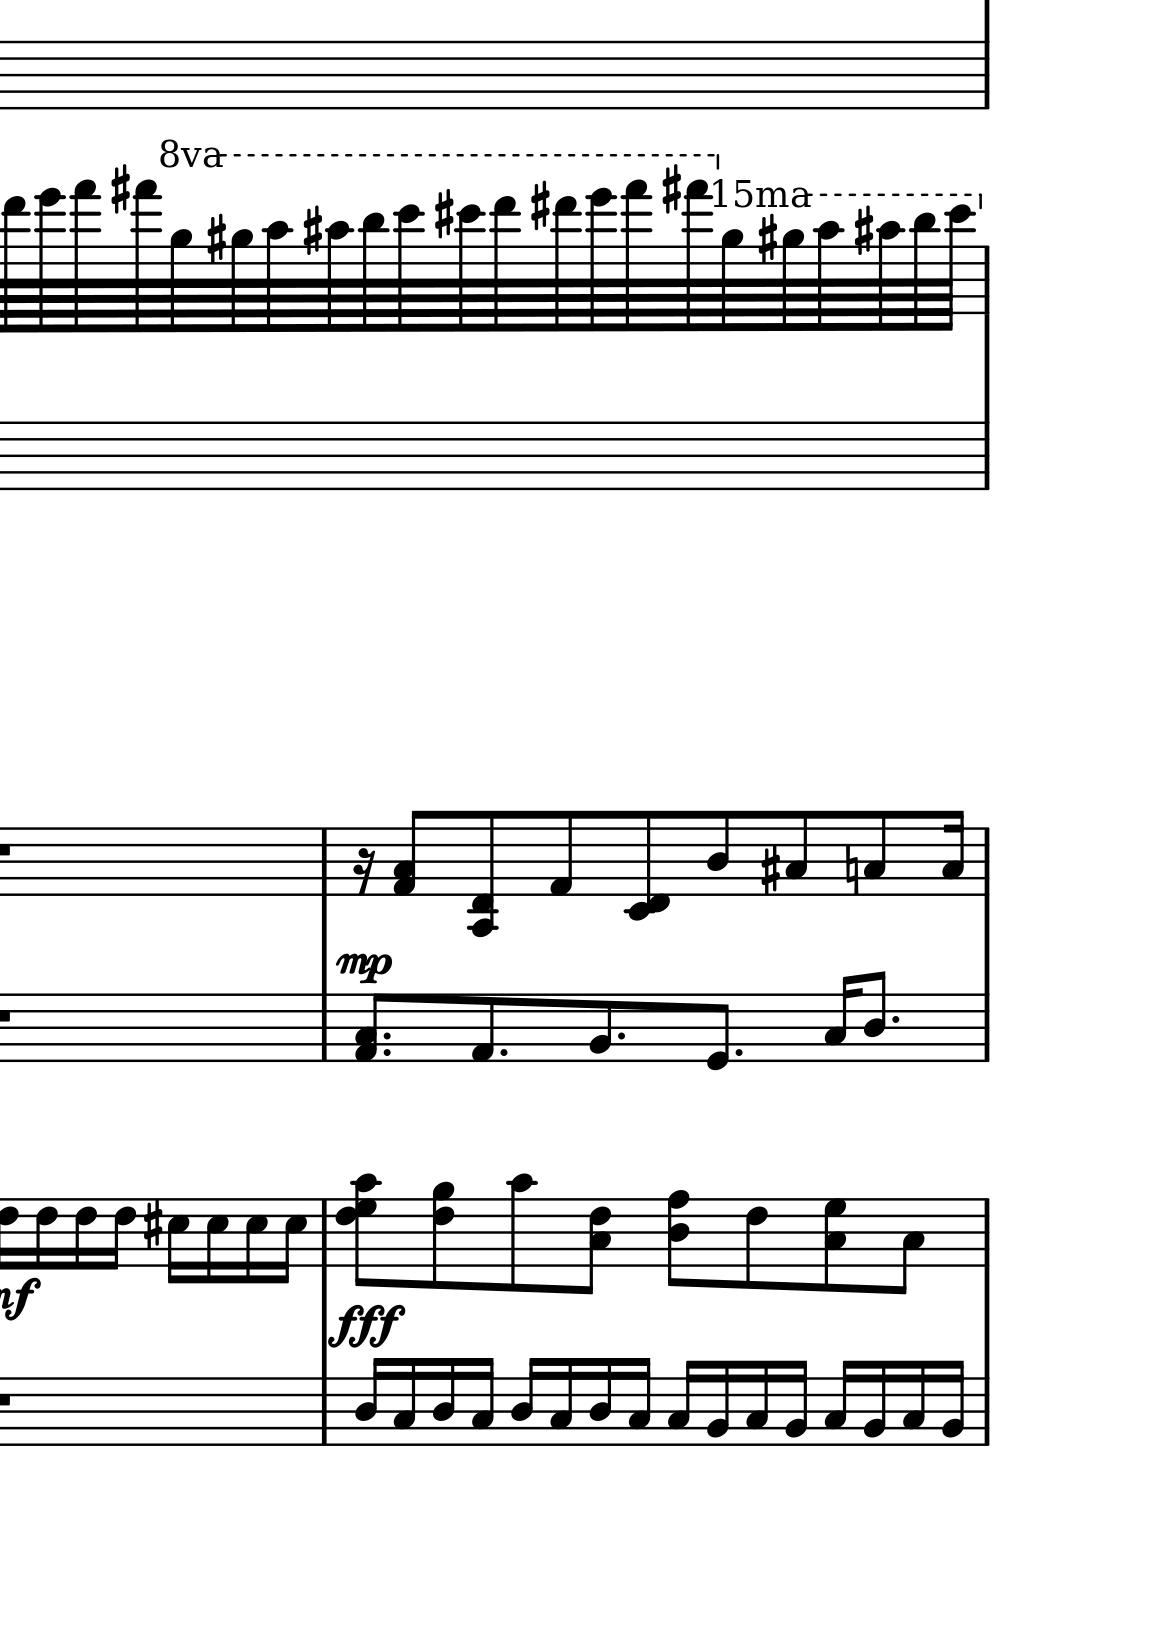16_2: (941, 1360, 966, 1448), (707, 1358, 731, 1449), (785, 1358, 809, 1449), (863, 1358, 886, 1447)
16_3: (823, 972, 862, 1063), (823, 1360, 857, 1448), (667, 1360, 701, 1447), (549, 1355, 574, 1448), (626, 1357, 651, 1449), (940, 809, 966, 896), (469, 1356, 494, 1447), (746, 1360, 770, 1448), (393, 1357, 416, 1449), (901, 1360, 926, 1447)
16_4: (354, 1357, 388, 1447), (511, 1356, 544, 1447), (587, 1356, 613, 1449), (433, 1356, 456, 1449)
16_5: (103, 1198, 136, 1272), (281, 1195, 305, 1286), (206, 1196, 231, 1286), (246, 1196, 268, 1287), (167, 1198, 190, 1284), (34, 1198, 59, 1272), (74, 1198, 96, 1274)
64_10: (817, 219, 842, 333), (266, 221, 290, 333), (327, 218, 350, 331), (878, 219, 901, 333)
64_11: (362, 212, 389, 335), (913, 212, 935, 333)
64_12: (940, 203, 972, 333), (395, 202, 423, 335), (458, 204, 484, 335)
64_13: (491, 194, 519, 333), (554, 194, 580, 334), (2, 194, 27, 334)
64_14: (588, 186, 616, 334), (36, 187, 64, 334)
64_15: (71, 178, 98, 334), (623, 179, 651, 334), (133, 179, 160, 333), (684, 179, 708, 333)
64_9: (170, 228, 194, 335), (721, 227, 744, 333), (782, 228, 805, 334), (229, 228, 252, 335)
8_-2_-1: (623, 809, 670, 920)
8_-4_-1: (469, 810, 500, 937)
8_1: (549, 810, 574, 898), (468, 993, 496, 1063), (707, 993, 731, 1072)
8_10: (509, 1173, 536, 1295)
8_1_3: (393, 810, 426, 898), (353, 991, 383, 1063)
8_2: (588, 992, 612, 1064)
8_3: (890, 1198, 928, 1297), (785, 809, 810, 898), (863, 809, 886, 898)
8_3_6: (580, 1198, 613, 1299)
8_3_7: (824, 1198, 848, 1295)
8_4: (862, 970, 886, 1065), (707, 810, 731, 897)
8_4_8: (666, 1190, 689, 1289)
8_6: (744, 1196, 769, 1294)
8_6_9: (431, 1181, 456, 1291)
8_th: (337, 1171, 386, 1289)
Natural: (845, 846, 859, 901)
Rests16: (352, 847, 377, 896)
Sharp: (110, 160, 131, 218), (761, 844, 780, 898), (757, 212, 778, 263), (854, 206, 874, 257), (302, 206, 322, 255), (530, 181, 550, 231), (145, 1199, 163, 1251), (207, 214, 226, 264), (435, 189, 454, 239), (662, 163, 679, 216)
Single_barline: (972, 1198, 997, 1267), (972, 992, 996, 1063), (314, 1378, 339, 1446), (972, 827, 996, 897), (313, 829, 338, 895), (972, 422, 996, 491), (974, 245, 996, 315), (315, 994, 338, 1063), (975, 1378, 997, 1446), (315, 1198, 337, 1267)
dot: (377, 1042, 399, 1062), (612, 1026, 632, 1046), (496, 1042, 514, 1063), (379, 1026, 396, 1046), (732, 1042, 748, 1063), (889, 1009, 904, 1029), (613, 1028, 628, 1044), (380, 1029, 395, 1044), (496, 1046, 510, 1059), (382, 1046, 394, 1060), (732, 1046, 743, 1058)
fff: (328, 1301, 406, 1350)
mp: (330, 948, 398, 979)
